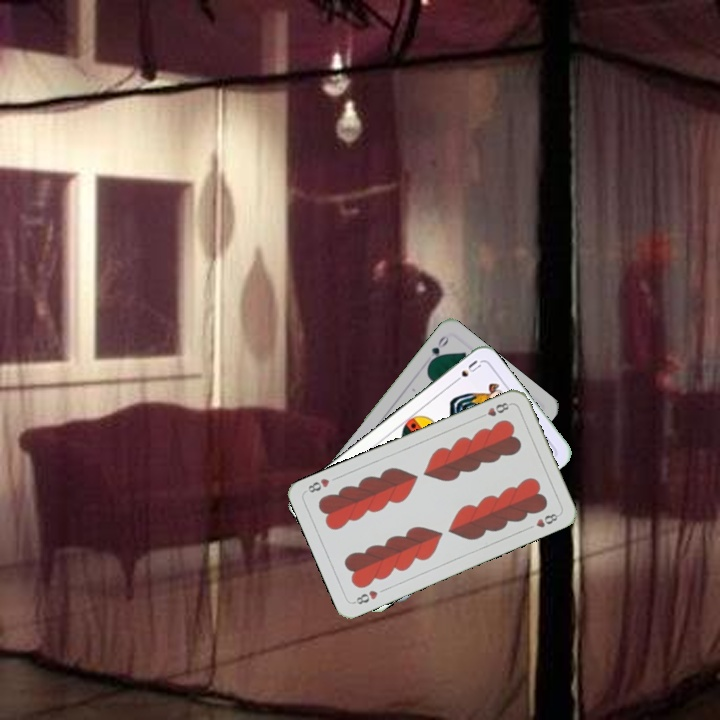GO: (424, 331, 451, 368)
H8: (475, 398, 514, 421), (350, 586, 380, 607)
SU: (448, 356, 484, 387)
